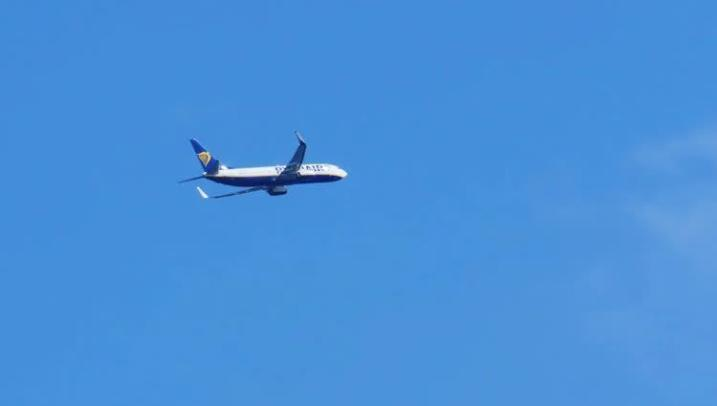aircraft: (178, 130, 349, 200)
